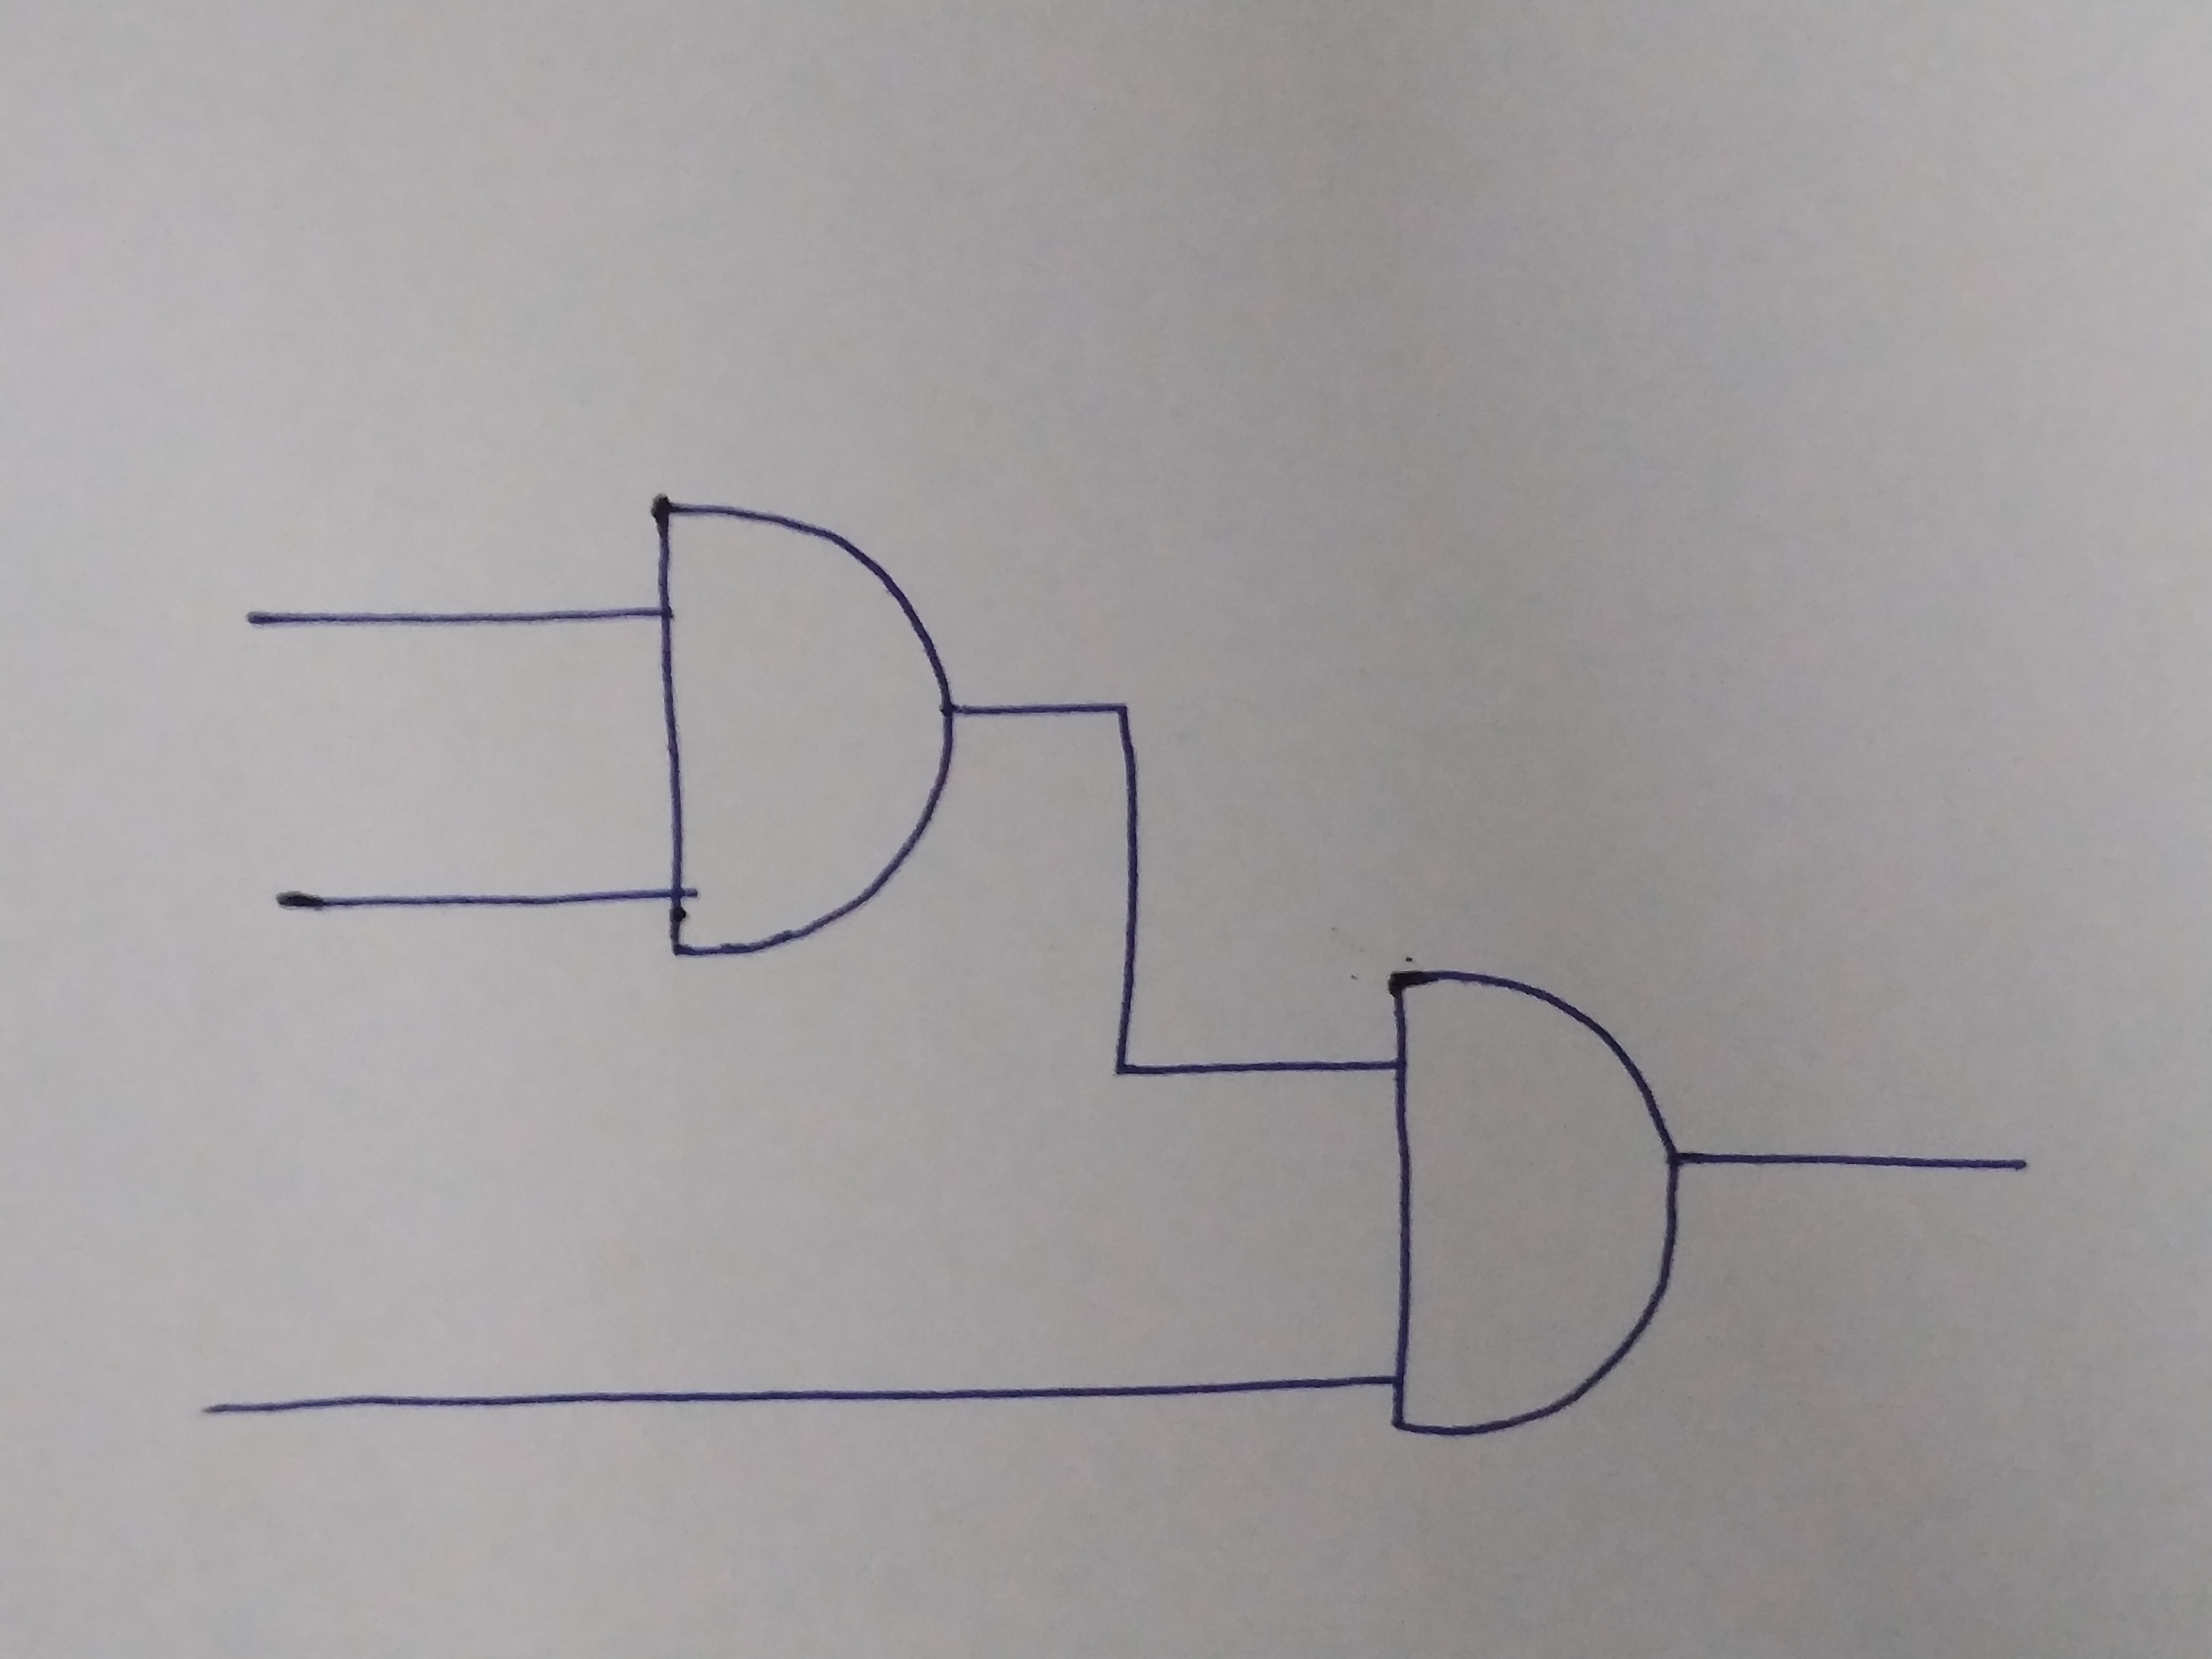and: (653, 490, 960, 951), (1392, 978, 1669, 1439)
